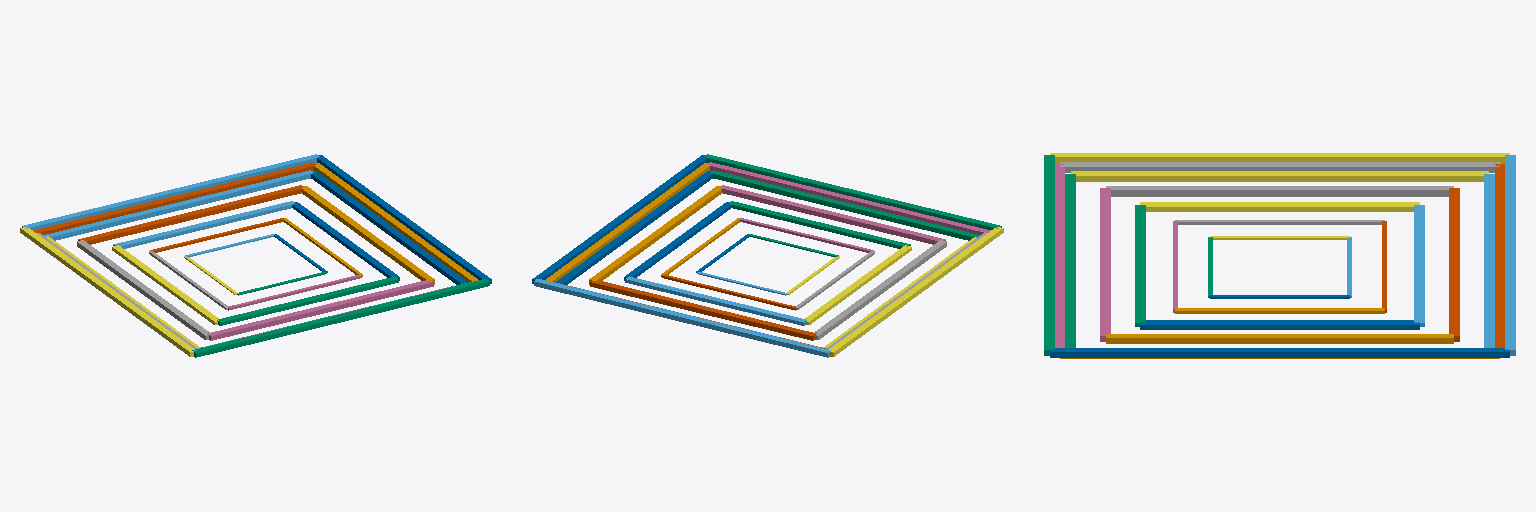
URDF robot description (plane):
<?xml version="1.0" ?>
<robot name="plane">

  <!-- Base plane -->
  <link name="planeLink">
  <contact>
      <lateral_friction value="0.01"/>
  </contact>
    <inertial>
      <origin rpy="0 0 0" xyz="0 0 -0.1"/>
       <mass value="1.0"/>
       <inertia ixx="1.0" ixy="0" ixz="0" iyy="1.0" iyz="0" izz="1.0"/>
    </inertial>
    <visual>
      <origin rpy="0 0 0" xyz="0 0 -0.1"/>
      <geometry>
				<mesh filename="plane100_light.obj" scale="1 1 1"/>
      </geometry>
       <material name="white">
        <color rgba="1 1 1 1"/>
      </material>
    </visual>
    <collision>
      <origin rpy="0 0 0" xyz="0 0 -5"/>
      <geometry>
	 	<box size="200 200 10"/>
      </geometry>
    </collision>
  </link>
  <!-- Inner Rectangle (2m) -->
  <link name="box_inner_top">
    <visual><origin xyz="0 2.0 0.025"/><geometry><box size="4.0 0.15 0.05"/></geometry></visual>
    <collision><origin xyz="0 2.0 0.025"/><geometry><box size="4.0 0.15 0.05"/></geometry></collision>
  </link>
  <joint name="joint_inner_top" type="fixed"><parent link="planeLink"/><child link="box_inner_top"/><origin xyz="0 0 0"/></joint>

  <link name="box_inner_bottom">
    <visual><origin xyz="0 -2.0 0.025"/><geometry><box size="4.0 0.15 0.05"/></geometry></visual>
    <collision><origin xyz="0 -2.0 0.025"/><geometry><box size="4.0 0.15 0.05"/></geometry></collision>
  </link>
  <joint name="joint_inner_bottom" type="fixed"><parent link="planeLink"/><child link="box_inner_bottom"/><origin xyz="0 0 0"/></joint>

  <link name="box_inner_left">
    <visual><origin xyz="-2.0 0 0.025"/><geometry><box size="0.15 4.0 0.05"/></geometry></visual>
    <collision><origin xyz="-2.0 0 0.025"/><geometry><box size="0.15 4.0 0.05"/></geometry></collision>
  </link>
  <joint name="joint_inner_left" type="fixed"><parent link="planeLink"/><child link="box_inner_left"/><origin xyz="0 0 0"/></joint>

  <link name="box_inner_right">
    <visual><origin xyz="2.0 0 0.025"/><geometry><box size="0.15 4.0 0.05"/></geometry></visual>
    <collision><origin xyz="2.0 0 0.025"/><geometry><box size="0.15 4.0 0.05"/></geometry></collision>
  </link>
  <joint name="joint_inner_right" type="fixed"><parent link="planeLink"/><child link="box_inner_right"/><origin xyz="0 0 0"/></joint>

  


  <link name="box_top">
    <visual><origin xyz="0 3.0 0.05"/><geometry><box size="6.0 0.15 0.1"/></geometry></visual>
    <collision><origin xyz="0 3.0 0.05"/><geometry><box size="6.0 0.15 0.1"/></geometry></collision>
  </link>
  <joint name="joint_top" type="fixed"><parent link="planeLink"/><child link="box_top"/><origin xyz="0 0 0"/></joint>

  <link name="box_bottom">
    <visual><origin xyz="0 -3.0 0.05"/><geometry><box size="6.0 0.15 0.1"/></geometry></visual>
    <collision><origin xyz="0 -3.0 0.05"/><geometry><box size="6.0 0.15 0.1"/></geometry></collision>
  </link>
  <joint name="joint_bottom" type="fixed"><parent link="planeLink"/><child link="box_bottom"/><origin xyz="0 0 0"/></joint>

  <link name="box_left">
    <visual><origin xyz="-3.0 0 0.05"/><geometry><box size="0.15 6.0 0.1"/></geometry></visual>
    <collision><origin xyz="-3.0 0 0.05"/><geometry><box size="0.15 6.0 0.1"/></geometry></collision>
  </link>
  <joint name="joint_left" type="fixed"><parent link="planeLink"/><child link="box_left"/><origin xyz="0 0 0"/></joint>

  <link name="box_right">
    <visual><origin xyz="3.0 0 0.05"/><geometry><box size="0.15 6.0 0.1"/></geometry></visual>
    <collision><origin xyz="3.0 0 0.05"/><geometry><box size="0.15 6.0 0.1"/></geometry></collision>
  </link>
  <joint name="joint_right" type="fixed"><parent link="planeLink"/><child link="box_right"/><origin xyz="0 0 0"/></joint>

  <!-- Outer Rectangle (4m, 1m away from inner) -->
  <!-- These are 10cm tall, so z = 0.05 and size.z = 0.10 -->

  <link name="box_outer_top">
    <visual><origin xyz="0 4.0 0.075"/><geometry><box size="8.0 0.3 0.15"/></geometry></visual>
    <collision><origin xyz="0 4.0 0.075"/><geometry><box size="8.0 0.3 0.15"/></geometry></collision>
  </link>
  <joint name="joint_outer_top" type="fixed"><parent link="planeLink"/><child link="box_outer_top"/><origin xyz="0 0 0"/></joint>

  <link name="box_outer_bottom">
    <visual><origin xyz="0 -4.0 0.075"/><geometry><box size="8.0 0.3 0.15"/></geometry></visual>
    <collision><origin xyz="0 -4.0 0.075"/><geometry><box size="8.0 0.3 0.15"/></geometry></collision>
  </link>
  <joint name="joint_outer_bottom" type="fixed"><parent link="planeLink"/><child link="box_outer_bottom"/><origin xyz="0 0 0"/></joint>

  <link name="box_outer_left">
    <visual><origin xyz="-4.0 0 0.075"/><geometry><box size="0.3 8.0 0.15"/></geometry></visual>
    <collision><origin xyz="-4.0 0 0.075"/><geometry><box size="0.3 8.0 0.15"/></geometry></collision>
  </link>
  <joint name="joint_outer_left" type="fixed"><parent link="planeLink"/><child link="box_outer_left"/><origin xyz="0 0 0"/></joint>

  <link name="box_outer_right">
    <visual><origin xyz="4.0 0 0.075"/><geometry><box size="0.3 8.0 0.15"/></geometry></visual>
    <collision><origin xyz="4.0 0 0.075"/><geometry><box size="0.3 8.0 0.15"/></geometry></collision>
  </link>
  <joint name="joint_outer_right" type="fixed"><parent link="planeLink"/><child link="box_outer_right"/><origin xyz="0 0 0"/></joint>


<!-- Outer Floating Rectangle (6m wide, 15cm tall, elevated) -->

  <link name="box_max_top">
    <visual><origin xyz="0 5.0 0.1"/><geometry><box size="10.0 0.3 0.2"/></geometry></visual>
    <collision><origin xyz="0 5.0 0.1"/><geometry><box size="10.0 0.3 0.2"/></geometry></collision>
  </link>
  <joint name="box_max_top" type="fixed"><parent link="planeLink"/><child link="box_max_top"/><origin xyz="0 0 0"/></joint>

  <link name="box_max_bottom">
    <visual><origin xyz="0 -5.0 0.1"/><geometry><box size="10.0 0.3 0.2"/></geometry></visual>
    <collision><origin xyz="0 -5.0 0.1"/><geometry><box size="10.0 0.3 0.2"/></geometry></collision>
  </link>
  <joint name="box_max_bottom" type="fixed"><parent link="planeLink"/><child link="box_max_bottom"/><origin xyz="0 0 0"/></joint>

  <link name="box_max_left">
    <visual><origin xyz="-5.0 0 0.1"/><geometry><box size="0.3 10.0 0.2"/></geometry></visual>
    <collision><origin xyz="-5.0 0 0.1"/><geometry><box size="0.3 10.0 0.2"/></geometry></collision>
  </link>
  <joint name="box_max_left" type="fixed"><parent link="planeLink"/><child link="box_max_left"/><origin xyz="0 0 0"/></joint>

  <link name="box_max_right">
    <visual><origin xyz="5.0 0 0.1"/><geometry><box size="0.3 10.0 0.2"/></geometry></visual>
    <collision><origin xyz="5.0 0 0.1"/><geometry><box size="0.3 10.0 0.2"/></geometry></collision>
  </link>
  <joint name="box_max_right" type="fixed"><parent link="planeLink"/><child link="box_max_right"/><origin xyz="0 0 0"/></joint>



  <link name="box_stair1_top">
    <visual><origin xyz="0 6.0 0.1"/><geometry><box size="12.0 0.3 0.2"/></geometry></visual>
    <collision><origin xyz="0 6.0 0.1"/><geometry><box size="12.0 0.3 0.2"/></geometry></collision>
  </link>
  <joint name="box_stair1_top" type="fixed"><parent link="planeLink"/><child link="box_stair1_top"/><origin xyz="0 0 0"/></joint>

  <link name="box_stair1_bottom">
    <visual><origin xyz="0 -6.0 0.1"/><geometry><box size="12.0 0.3 0.2"/></geometry></visual>
    <collision><origin xyz="0 -6.0 0.1"/><geometry><box size="12.0 0.3 0.2"/></geometry></collision>
  </link>
  <joint name="box_stair1_bottom" type="fixed"><parent link="planeLink"/><child link="box_stair1_bottom"/><origin xyz="0 0 0"/></joint>

  <link name="box_stair1_left">
    <visual><origin xyz="-6.0 0 0.1"/><geometry><box size="0.3 12.0 0.2"/></geometry></visual>
    <collision><origin xyz="-6.0 0 0.1"/><geometry><box size="0.3 12.0 0.2"/></geometry></collision>
  </link>
  <joint name="box_stair1_left" type="fixed"><parent link="planeLink"/><child link="box_stair1_left"/><origin xyz="0 0 0"/></joint>

  <link name="box_stair1_right">
    <visual><origin xyz="6.0 0 0.1"/><geometry><box size="0.3 12.0 0.2"/></geometry></visual>
    <collision><origin xyz="6.0 0 0.1"/><geometry><box size="0.3 12.0 0.2"/></geometry></collision>
  </link>
  <joint name="box_stair1_right" type="fixed"><parent link="planeLink"/><child link="box_stair1_right"/><origin xyz="0 0 0"/></joint>


  <link name="box_stair2_top">
    <visual><origin xyz="0 6.3 0.25"/><geometry><box size="12.6 0.3 0.2"/></geometry></visual>
    <collision><origin xyz="0 6.3 0.25"/><geometry><box size="12.6 0.3 0.2"/></geometry></collision>
  </link>
  <joint name="box_stair2_top" type="fixed"><parent link="planeLink"/><child link="box_stair2_top"/><origin xyz="0 0 0"/></joint>

  <link name="box_stair2_bottom">
    <visual><origin xyz="0 -6.3 0.25"/><geometry><box size="12.6 0.3 0.2"/></geometry></visual>
    <collision><origin xyz="0 -6.3 0.25"/><geometry><box size="12.6 0.3 0.2"/></geometry></collision>
  </link>
  <joint name="box_stair2_bottom" type="fixed"><parent link="planeLink"/><child link="box_stair2_bottom"/><origin xyz="0 0 0"/></joint>

  <link name="box_stair2_left">
    <visual><origin xyz="-6.3 0 0.25"/><geometry><box size="0.3 12.6 0.2"/></geometry></visual>
    <collision><origin xyz="-6.3 0 0.25"/><geometry><box size="0.3 12.6 0.2"/></geometry></collision>
  </link>
  <joint name="box_stair2_left" type="fixed"><parent link="planeLink"/><child link="box_stair2_left"/><origin xyz="0 0 0"/></joint>

  <link name="box_stair2_right">
    <visual><origin xyz="6.3 0 0.25"/><geometry><box size="0.3 12.6 0.2"/></geometry></visual>
    <collision><origin xyz="6.3 0 0.25"/><geometry><box size="0.3 12.6 0.2"/></geometry></collision>
  </link>
  <joint name="box_stair2_right" type="fixed"><parent link="planeLink"/><child link="box_stair2_right"/><origin xyz="0 0 0"/></joint>


  <link name="box_stair3_top">
    <visual><origin xyz="0 6.6 0.40"/><geometry><box size="13.2 0.3 0.2"/></geometry></visual>
    <collision><origin xyz="0 6.6 0.40"/><geometry><box size="13.2 0.3 0.2"/></geometry></collision>
  </link>
  <joint name="box_stair3_top" type="fixed"><parent link="planeLink"/><child link="box_stair3_top"/><origin xyz="0 0 0"/></joint>

  <link name="box_stair3_bottom">
    <visual><origin xyz="0 -6.6 0.40"/><geometry><box size="13.2 0.3 0.2"/></geometry></visual>
    <collision><origin xyz="0 -6.6 0.40"/><geometry><box size="13.2 0.3 0.2"/></geometry></collision>
  </link>
  <joint name="box_stair3_bottom" type="fixed"><parent link="planeLink"/><child link="box_stair3_bottom"/><origin xyz="0 0 0"/></joint>

  <link name="box_stair3_left">
    <visual><origin xyz="-6.6 0 0.40"/><geometry><box size="0.3 13.2 0.2"/></geometry></visual>
    <collision><origin xyz="-6.6 0 0.40"/><geometry><box size="0.3 13.2 0.2"/></geometry></collision>
  </link>
  <joint name="box_stair3_left" type="fixed"><parent link="planeLink"/><child link="box_stair3_left"/><origin xyz="0 0 0"/></joint>

  <link name="box_stair3_right">
    <visual><origin xyz="6.6 0 0.40"/><geometry><box size="0.3 13.2 0.2"/></geometry></visual>
    <collision><origin xyz="6.6 0 0.40"/><geometry><box size="0.3 13.2 0.2"/></geometry></collision>
  </link>
  <joint name="box_stair3_right" type="fixed"><parent link="planeLink"/><child link="box_stair3_right"/><origin xyz="0 0 0"/></joint>




</robot>

--- Facts derived from the render (not from the file) ---
3 views of the same robot in one strip: view 1: azimuth 30°, elevation 25°; view 2: azimuth 150°, elevation 25°; view 3: azimuth 270°, elevation 25° (orthographic).
Model plane with 29 links and 28 joints (28 fixed), rooted at planeLink, posed every joint at zero.
Visible links, largest first — view 1: box_stair3_bottom, box_stair1_top, box_stair3_top, box_stair2_top, box_stair3_left, box_max_bottom, box_max_top, box_stair3_right, box_stair1_right, box_stair2_right, box_max_left, box_max_right (+6 smaller); view 2: box_stair3_top, box_stair1_bottom, box_stair3_bottom, box_stair2_bottom, box_stair3_left, box_max_top, box_max_bottom, box_stair1_right, box_stair3_right, box_stair2_right, box_max_left, box_max_right (+6 smaller); view 3: box_stair3_right, box_stair1_left, box_stair3_left, box_stair2_left, box_max_left, box_max_right, box_outer_right, box_outer_left, box_stair3_bottom, box_stair3_top, box_stair1_top, box_stair1_bottom (+10 smaller).
Link boxes in pixels (x1,y1,x2,y2): box_stair3_bottom: (192, 279, 489, 357); box_stair1_top: (44, 170, 313, 240); box_stair3_top: (22, 154, 319, 229); box_stair2_top: (33, 162, 316, 234); box_stair3_left: (20, 227, 195, 356); box_max_bottom: (207, 280, 433, 340); box_max_top: (78, 185, 302, 244); box_stair3_right: (317, 155, 491, 283); box_stair1_right: (311, 171, 468, 284); box_stair2_right: (314, 163, 477, 281); box_max_left: (77, 240, 210, 339); box_max_right: (302, 186, 434, 284); box_stair3_top: (534, 279, 830, 357); box_stair1_bottom: (710, 170, 979, 240); box_stair3_bottom: (704, 154, 1001, 229); box_stair2_bottom: (707, 162, 990, 234); box_stair3_left: (829, 227, 1003, 356); box_max_top: (590, 280, 816, 340); box_max_bottom: (719, 185, 945, 244); box_stair1_right: (555, 171, 712, 284); box_stair3_right: (532, 155, 706, 283); box_stair2_right: (546, 163, 709, 281); box_max_left: (814, 240, 946, 339); box_max_right: (589, 186, 723, 284); box_stair3_right: (1050, 348, 1509, 357); box_stair1_left: (1071, 171, 1488, 181); box_stair3_left: (1050, 153, 1509, 163); box_stair2_left: (1060, 162, 1499, 172); box_max_left: (1106, 186, 1453, 196); box_max_right: (1106, 334, 1453, 343); box_outer_right: (1140, 320, 1419, 329); box_outer_left: (1140, 202, 1419, 211); box_stair3_bottom: (1044, 155, 1054, 355); box_stair3_top: (1505, 155, 1515, 355); box_stair1_top: (1484, 174, 1494, 347); box_stair1_bottom: (1065, 174, 1075, 347).
Size in the robot's own frame: 13.5 by 13.5 by 0.5 metres.
0 mesh visuals loaded from 1 distinct referenced files (none loaded); not drawn: 1 (reference not matched to a file when rendering).